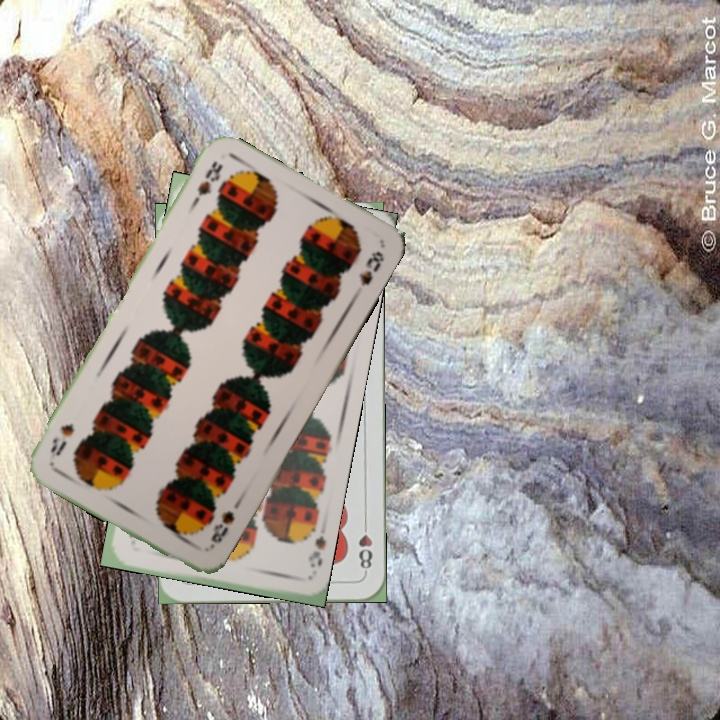H8: (355, 517, 375, 576)
S8: (187, 156, 226, 209), (205, 506, 237, 552)
S9: (301, 519, 325, 570)
